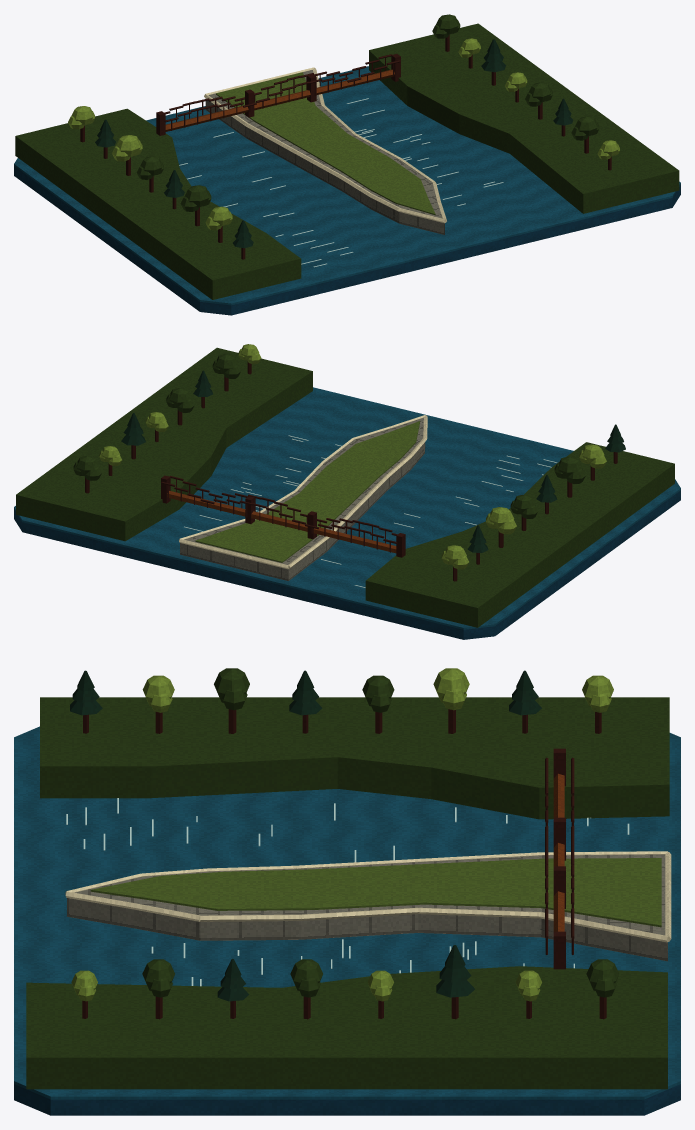
File: dujiangyan.glb
The picture shows the model from 3 angles, top to bottom: view 1: azimuth 30°, elevation 25°; view 2: azimuth 150°, elevation 25°; view 3: azimuth 270°, elevation 25°; orthographic projection. The views are drawn at different scales.
Visible parts, largest first — view 1: 都江堰; view 2: 都江堰; view 3: 都江堰.
Part boxes in pixels (x1,y1,x2,y2): 都江堰: (14,14,680,315); 都江堰: (14,344,680,639); 都江堰: (14,668,680,1115).
Bounding box in the file's own units: 10.9 × 1.67 × 8.2.
Materials: 12 (11 with a texture image).
